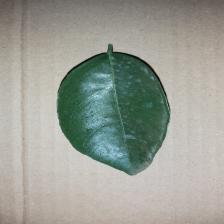healthy: (53, 50, 171, 178)
